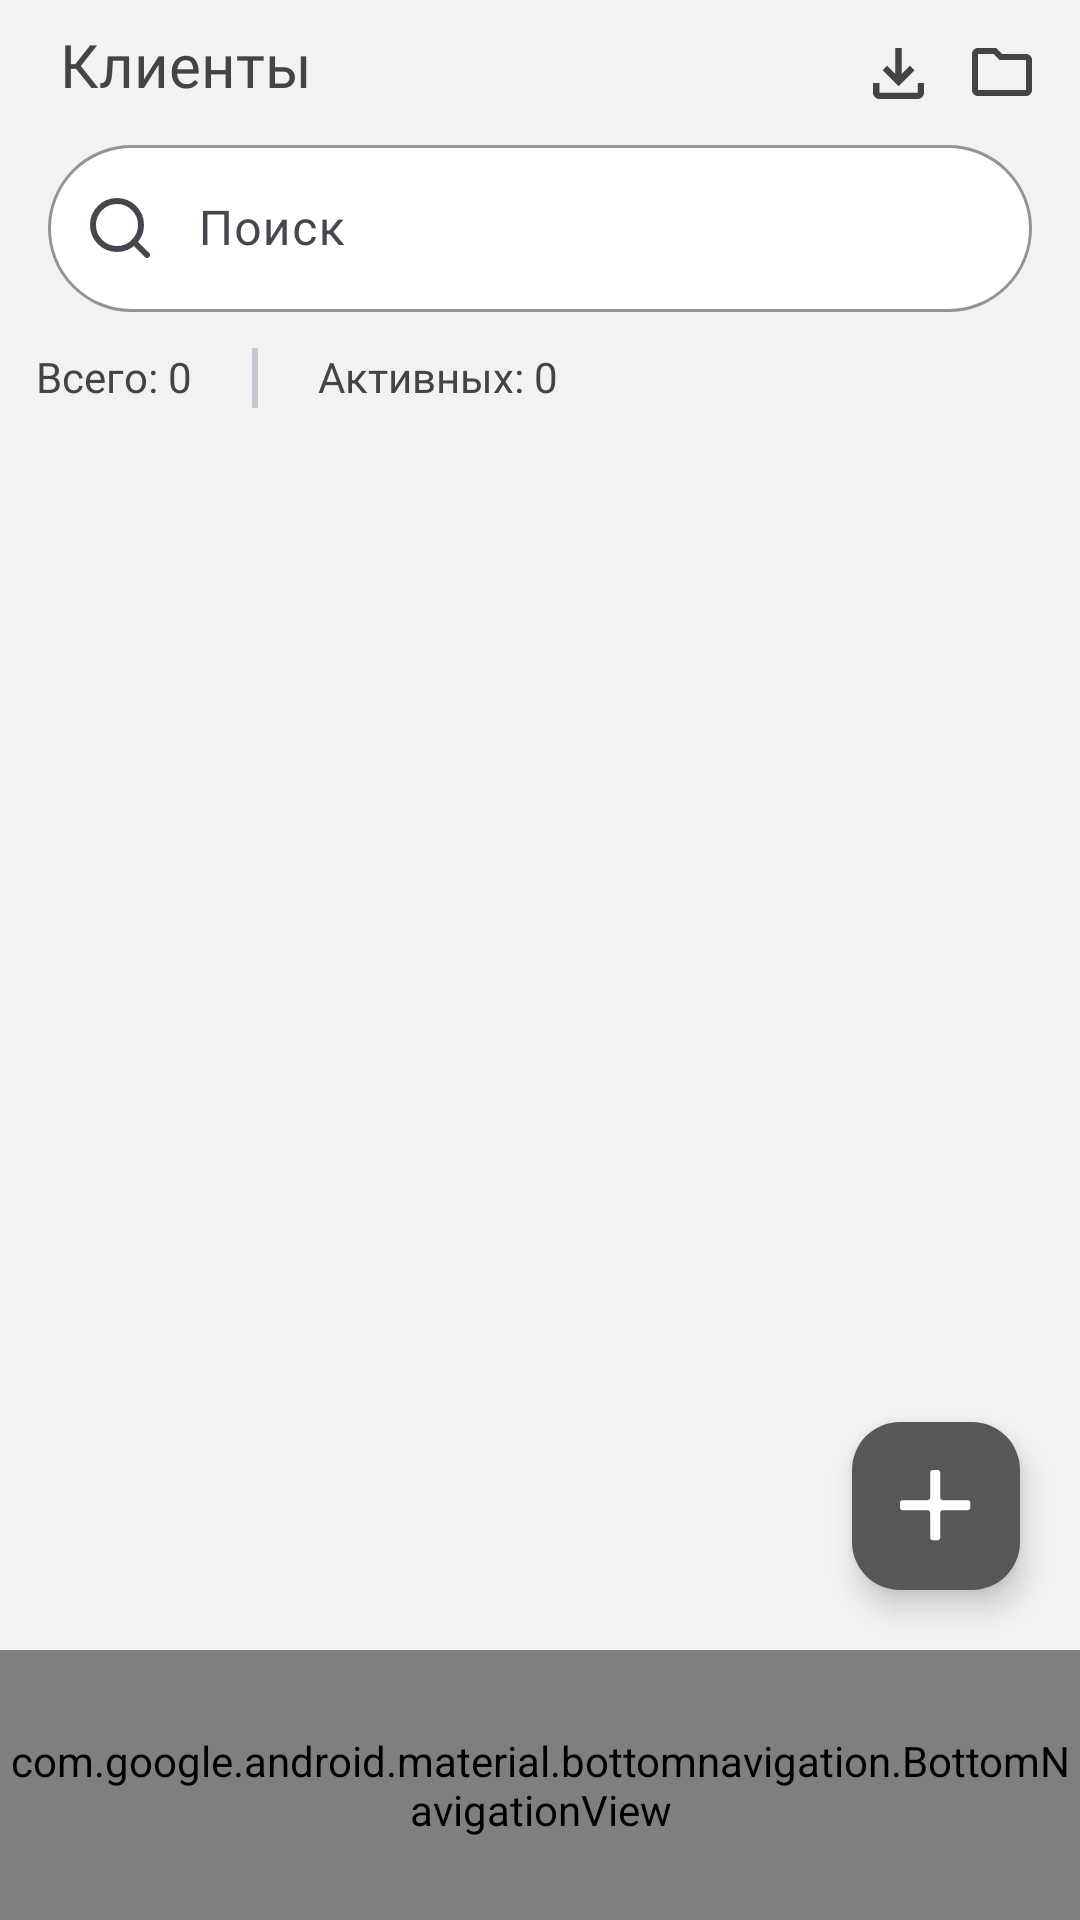

Screen size 1080 x 1920. Icon name, then its center in pixels as (x,y):
add: (936,1506)
